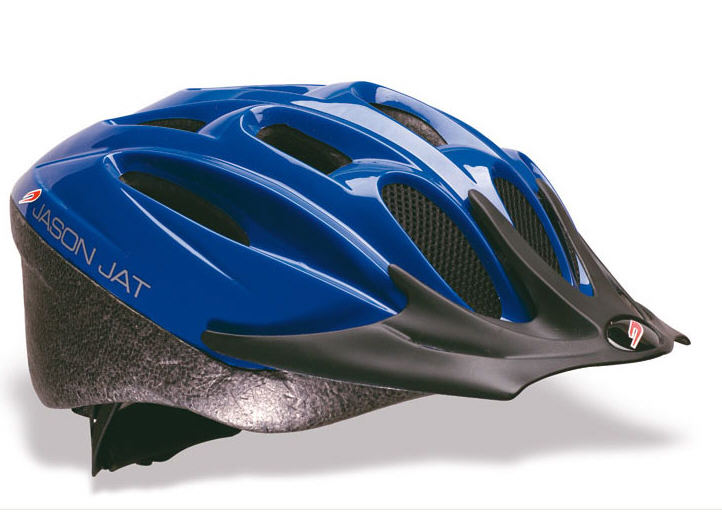helmet: (15, 106, 668, 405)
